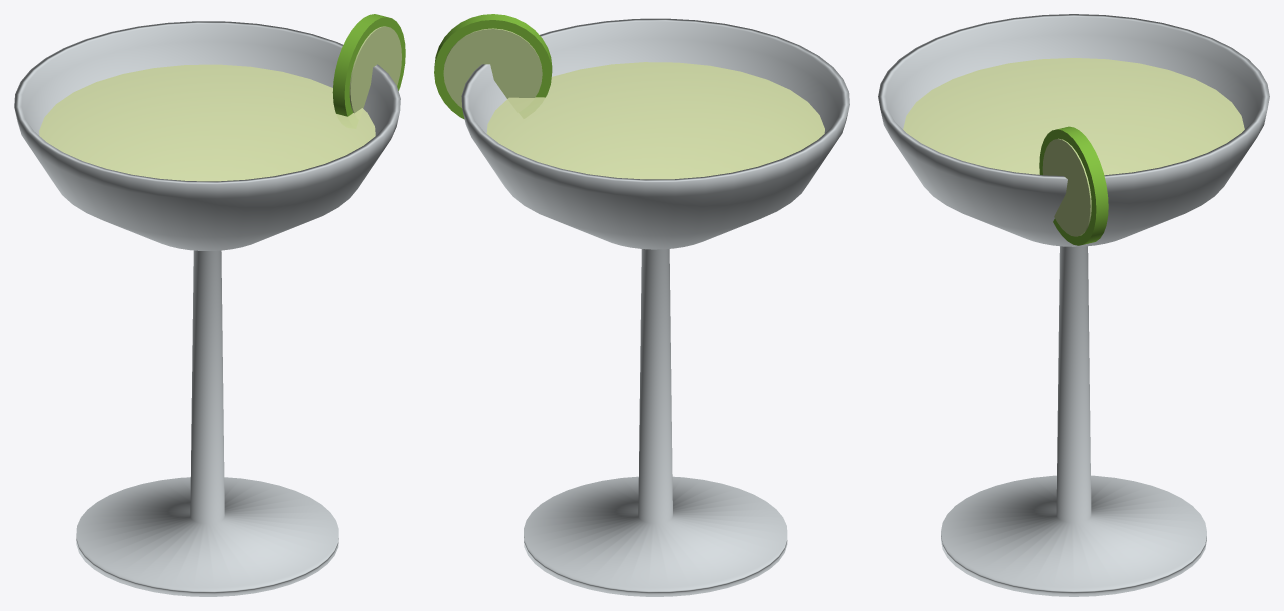
The model's file is cocktail-margarita.glb.
3 views of the same model, side by side, from view 1: azimuth 30°, elevation 25°; view 2: azimuth 150°, elevation 25°; view 3: azimuth 270°, elevation 25° (orthographic).
Bounding box in the file's own units: 0.1259 × 0.154 × 0.112.
